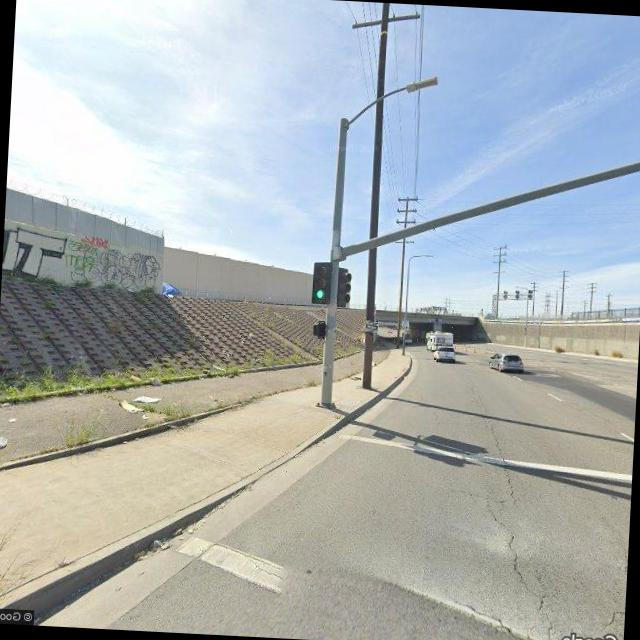pothole: (473, 394, 570, 632)
